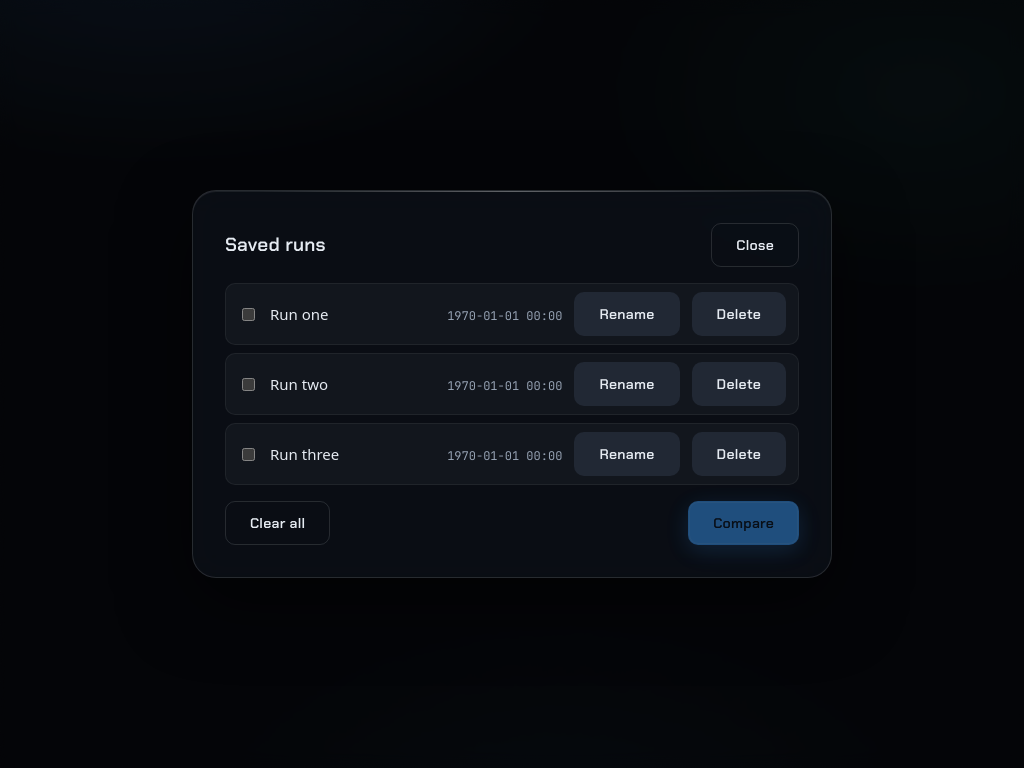
RunsPanel › the edited row’s Rename button is disabled so re-clicking can’t discard the draft
Click the 1st button "Rename": click(627, 314) [574,292,680,336]
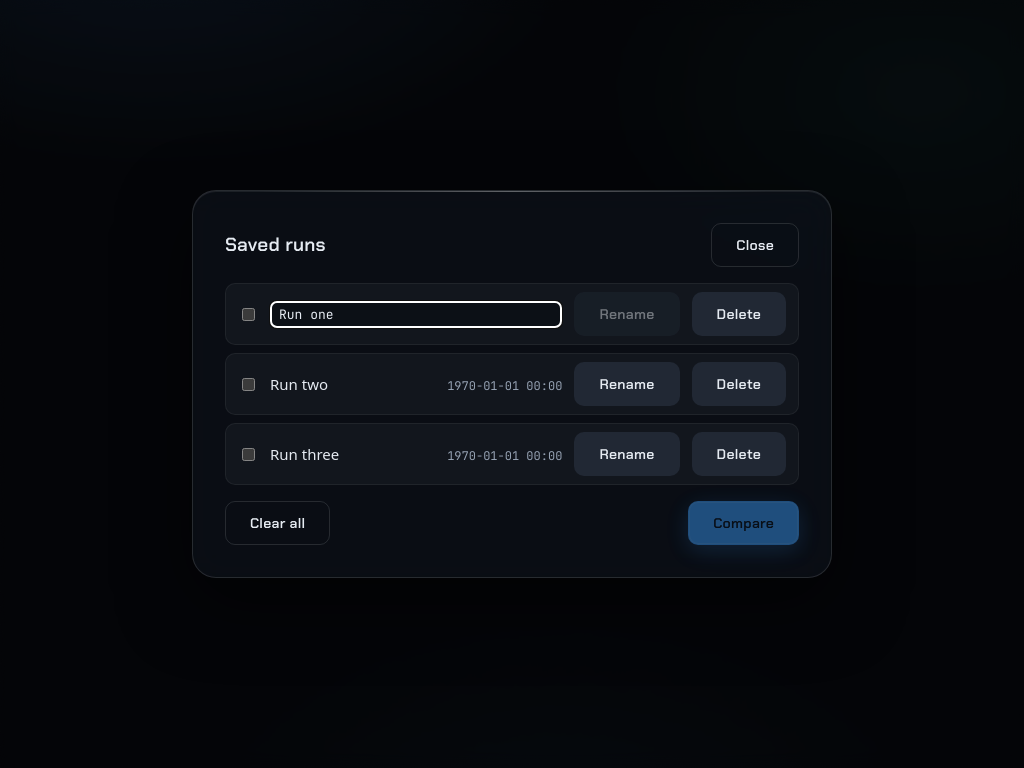
Expected: the 1st button "Rename" is disabled, [574,292,680,336]
